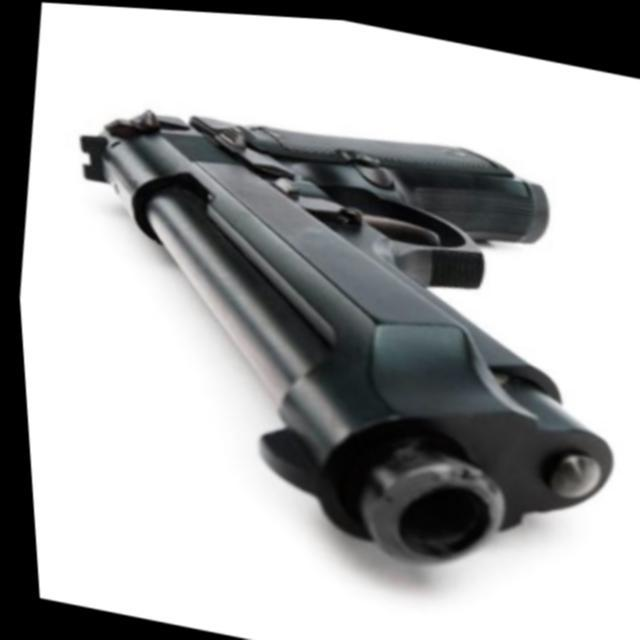weapon: (22, 66, 640, 596)
